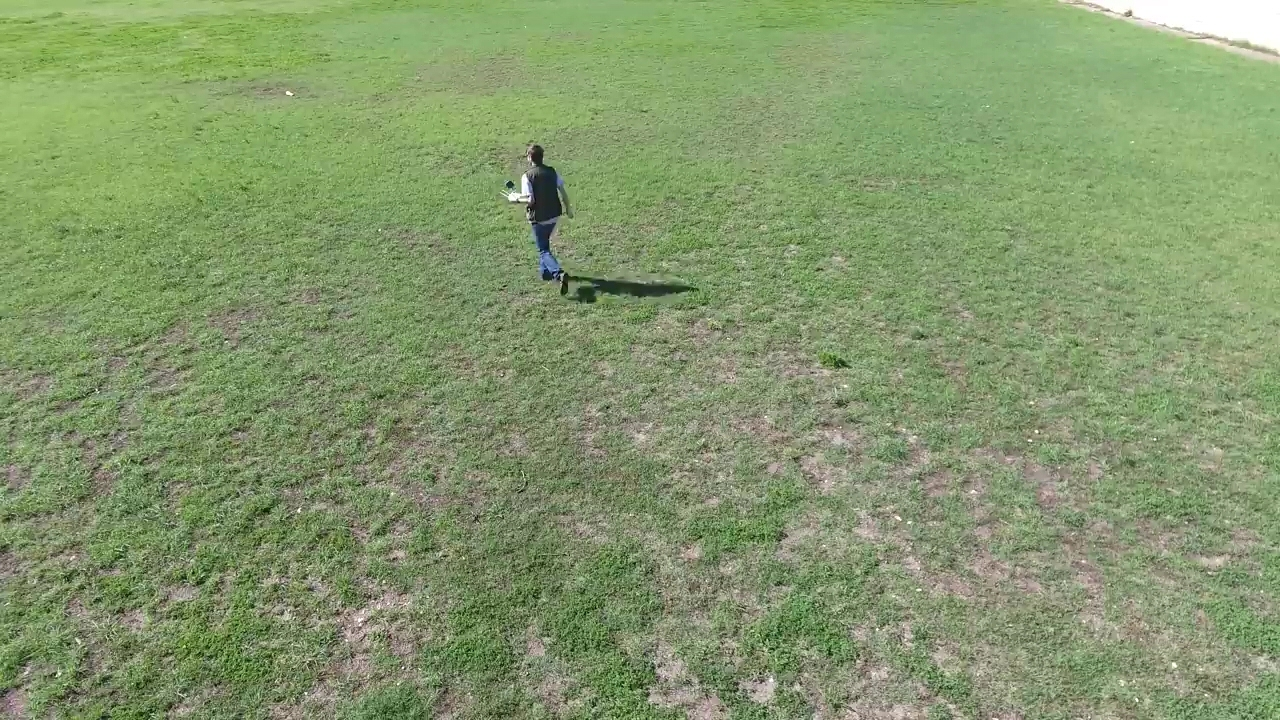insan: (501, 141, 577, 298)
